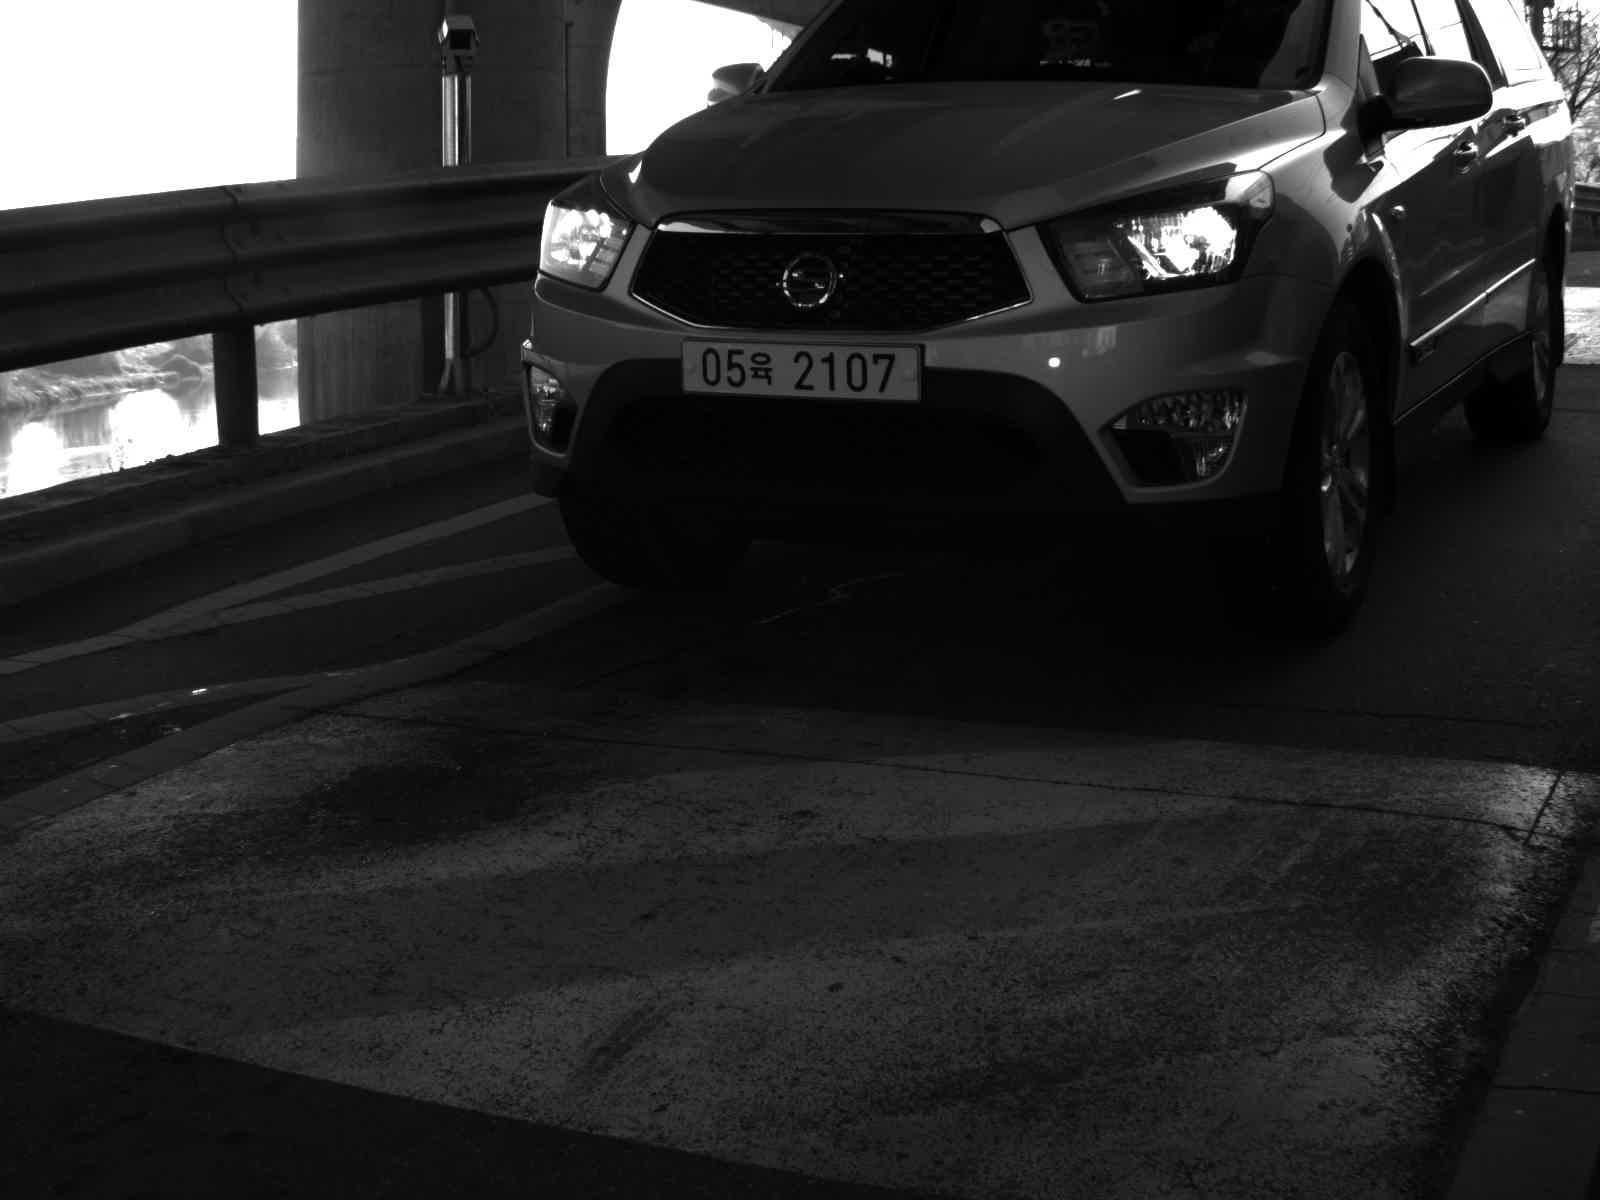P1_05육2107: (676, 338, 926, 404)
